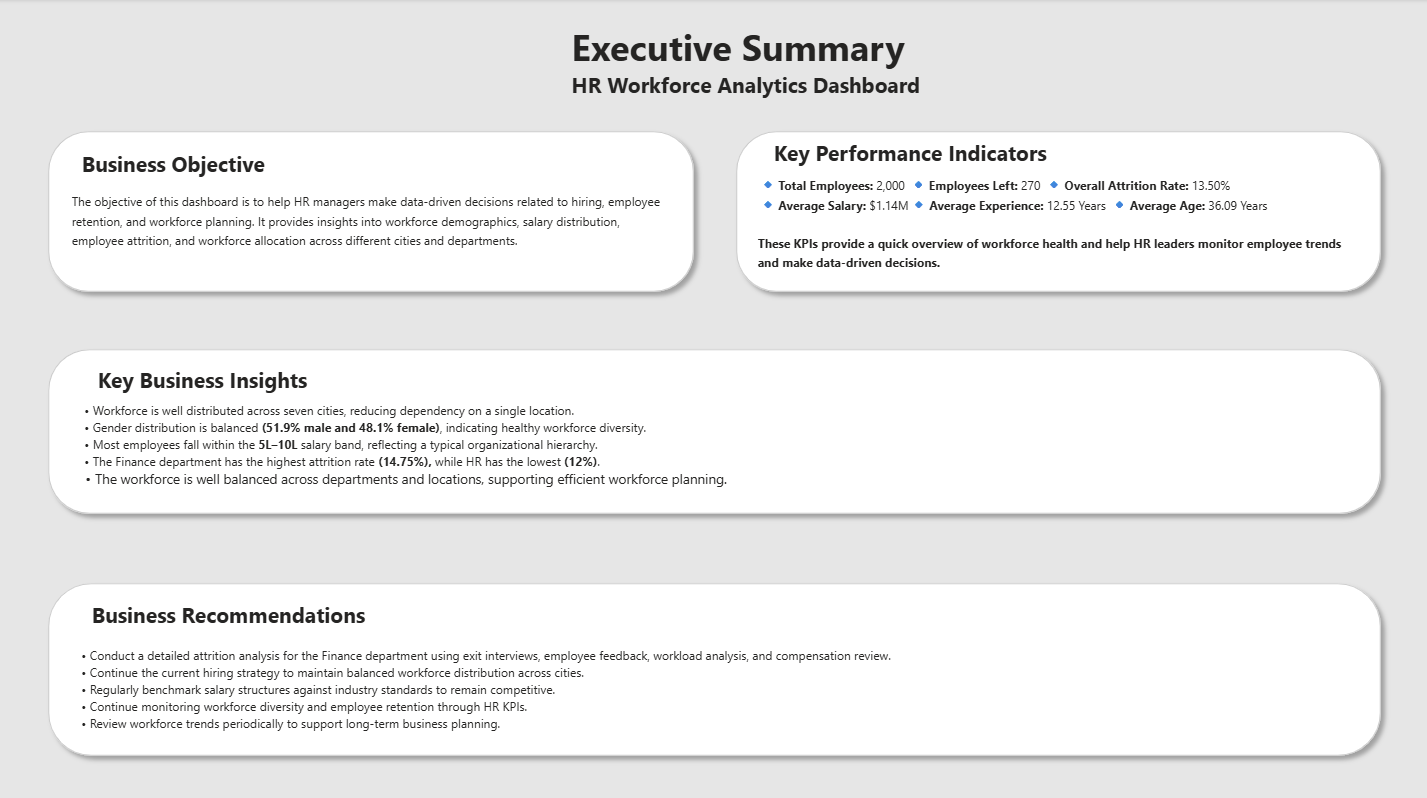

This screenshot's page, from the dashboard's own definition file:
{"tool":"powerbi","page":{"name":"Executive Summary","canvas":[1280,720],"ordinal":1},"visuals":[{"type":"textbox","box":[493.3,0,418.7,93.3],"z":0},{"type":"shape","box":[39.9,108.2,590.5,160.5],"z":1000},{"type":"shape","box":[39.9,301.5,1199.7,164],"z":2000},{"type":"shape","box":[39.9,509,1199.7,171.1],"z":3000},{"type":"shape","box":[650,108.2,589.7,160.5],"z":4000},{"type":"textbox","box":[73.6,128.6,215.5,44.3],"z":5000},{"type":"textbox","box":[64.7,164.9,540.9,70],"z":6000},{"type":"textbox","box":[687.2,118.8,293.5,37.2],"z":7000},{"type":"textbox","box":[673,150.7,541.8,95.8],"z":8000},{"type":"textbox","box":[67.4,320.1,236.7,39.9],"z":9000},{"type":"textbox","box":[67.4,352,605.6,94],"z":10000},{"type":"textbox","box":[82.5,528.5,299.7,40.8],"z":11000},{"type":"textbox","box":[64.7,569.3,746.6,90.4],"z":12000}]}

Visuals, with their boxes in screenshot pixels (x1, y1, x2, y2), scaled from the page's 1280x720 canvas onto the 1427x798 screenshot:
textbox: <bbox>550, 0, 1017, 103</bbox>
shape: <bbox>44, 120, 703, 298</bbox>
shape: <bbox>44, 334, 1382, 516</bbox>
shape: <bbox>44, 564, 1382, 754</bbox>
shape: <bbox>725, 120, 1382, 298</bbox>
textbox: <bbox>82, 143, 322, 192</bbox>
textbox: <bbox>72, 183, 675, 260</bbox>
textbox: <bbox>766, 132, 1093, 173</bbox>
textbox: <bbox>750, 167, 1354, 273</bbox>
textbox: <bbox>75, 355, 339, 399</bbox>
textbox: <bbox>75, 390, 750, 494</bbox>
textbox: <bbox>92, 586, 426, 631</bbox>
textbox: <bbox>72, 631, 904, 731</bbox>
